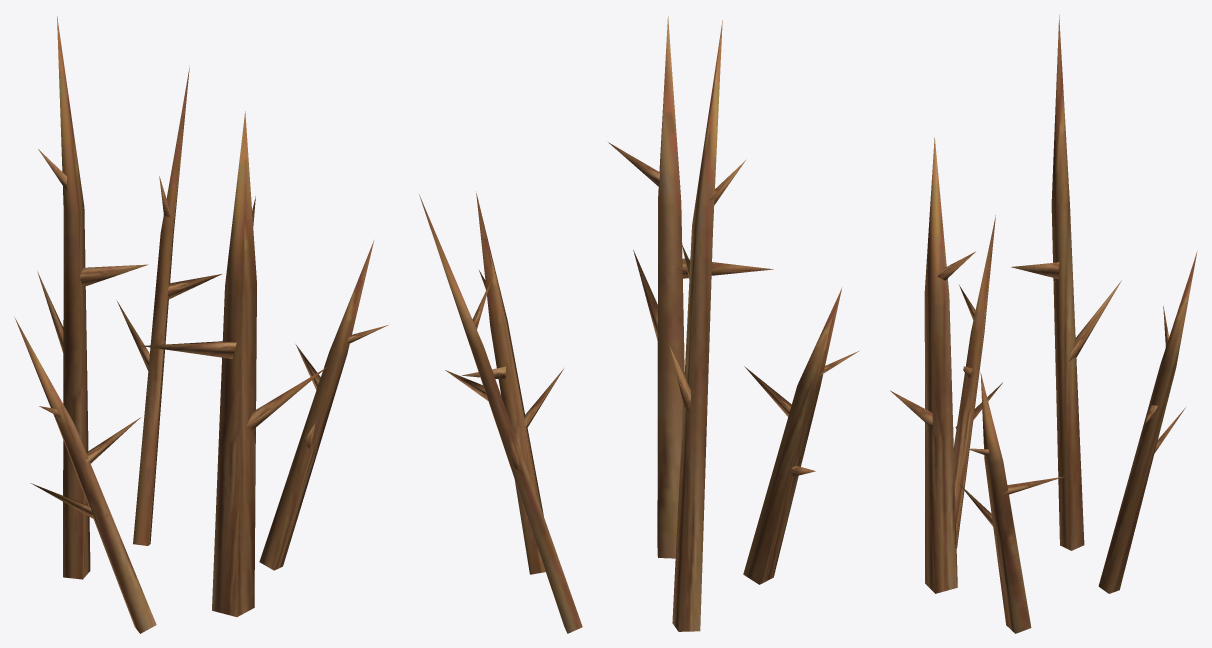
The model's file is environment_Tree_jingji_001_a.FBX.
The picture shows the model from 3 angles, left to right: view 1: azimuth 30°, elevation 25°; view 2: azimuth 150°, elevation 25°; view 3: azimuth 270°, elevation 25°; orthographic projection. The views are drawn at different scales.
Parts seen in each view (by area): view 1: environment_Tree_jingji_001_e, environment_Tree_jingji_001_b, environment_Tree_jingji_001_a, environment_Tree_jingji_001_d, environment_Tree_jingji_001_c; view 2: environment_Tree_jingji_001_b, environment_Tree_jingji_001_e, environment_Tree_jingji_001_c, environment_Tree_jingji_001_a, environment_Tree_jingji_001_d; view 3: environment_Tree_jingji_001_e, environment_Tree_jingji_001_b, environment_Tree_jingji_001_a, environment_Tree_jingji_001_d, environment_Tree_jingji_001_c.
Part boxes in pixels (<box>): environment_Tree_jingji_001_e: <box>141,111,326,616</box>; environment_Tree_jingji_001_b: <box>37,16,148,579</box>; environment_Tree_jingji_001_a: <box>117,65,221,545</box>; environment_Tree_jingji_001_d: <box>259,240,388,570</box>; environment_Tree_jingji_001_c: <box>14,317,156,633</box>; environment_Tree_jingji_001_b: <box>670,20,746,631</box>; environment_Tree_jingji_001_e: <box>608,16,773,558</box>; environment_Tree_jingji_001_c: <box>743,287,858,584</box>; environment_Tree_jingji_001_a: <box>419,194,582,633</box>; environment_Tree_jingji_001_d: <box>461,191,563,574</box>; environment_Tree_jingji_001_e: <box>890,137,975,593</box>; environment_Tree_jingji_001_b: <box>1011,15,1121,550</box>; environment_Tree_jingji_001_a: <box>1098,251,1197,593</box>; environment_Tree_jingji_001_d: <box>958,372,1064,633</box>; environment_Tree_jingji_001_c: <box>953,215,1002,548</box>.
Size of the model in its own units: 312 by 486 by 256.
Materials: 1 (1 with a texture image).
